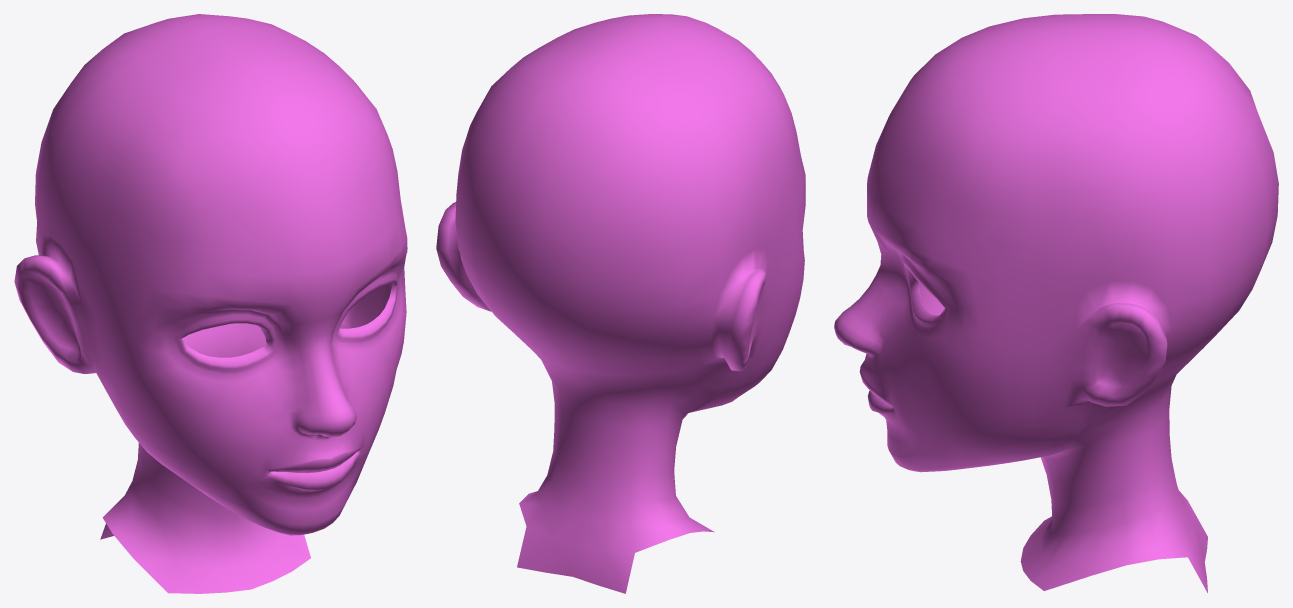
File: Gen13_Head.fbx
3 views of the same model, side by side, from view 1: azimuth 30°, elevation 25°; view 2: azimuth 150°, elevation 25°; view 3: azimuth 270°, elevation 25° (orthographic). The views are drawn at different scales.
Parts seen in each view (by area): view 1: headOnly_geo; view 2: headOnly_geo; view 3: headOnly_geo.
Part boxes in pixels (x1,y1,x2,y2): headOnly_geo: [14, 14, 407, 593]; headOnly_geo: [436, 14, 805, 593]; headOnly_geo: [834, 14, 1278, 592].
Bounding box in the file's own units: 23.1 × 34.97 × 26.3.
